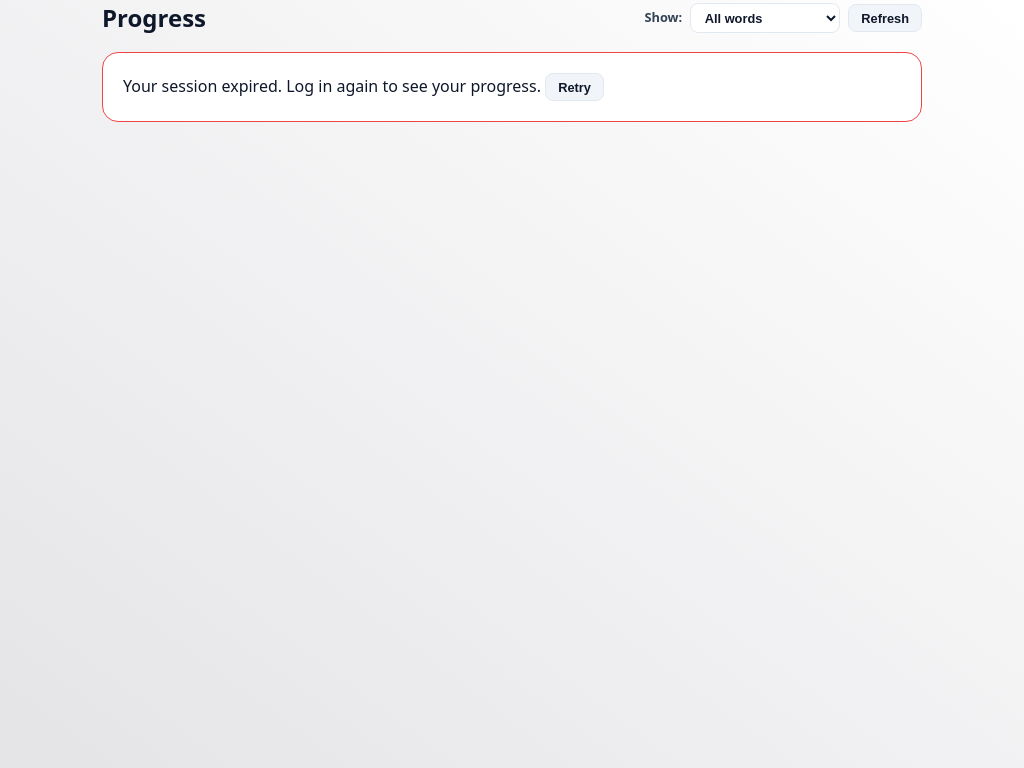
Test case: ProgressPage › explains an expired session and can retry
Expected: the message shows "session expired", [123,75,541,97]
Click the button "Retry": (575, 87) [545,73,604,101]
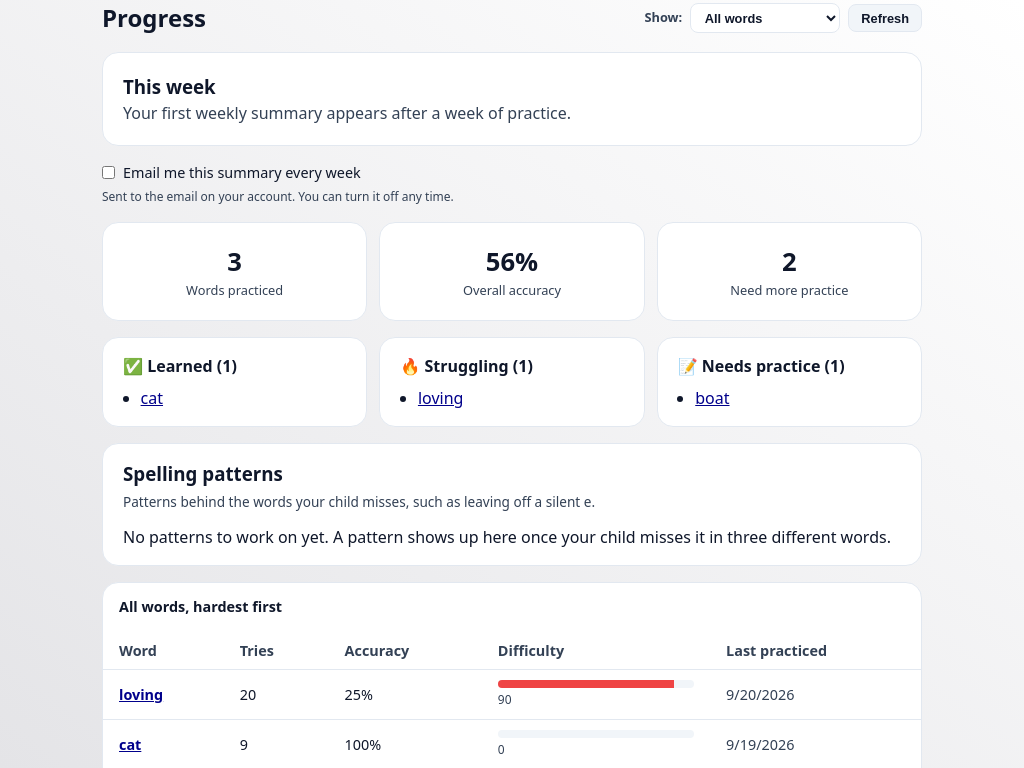
Expected: the element "🔥 Struggling (1) loving" is shown, [379,337,645,427]
Expected: the text "session expired" is gone
